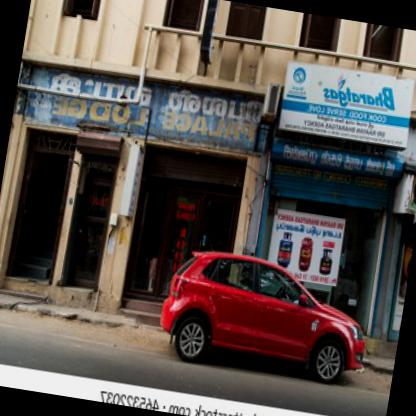car: (154, 246, 376, 392)
